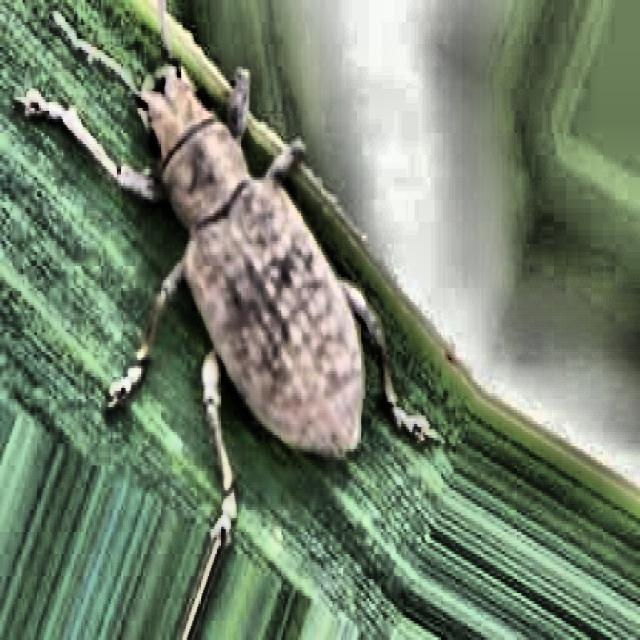Stink bug: (49, 0, 479, 525)
